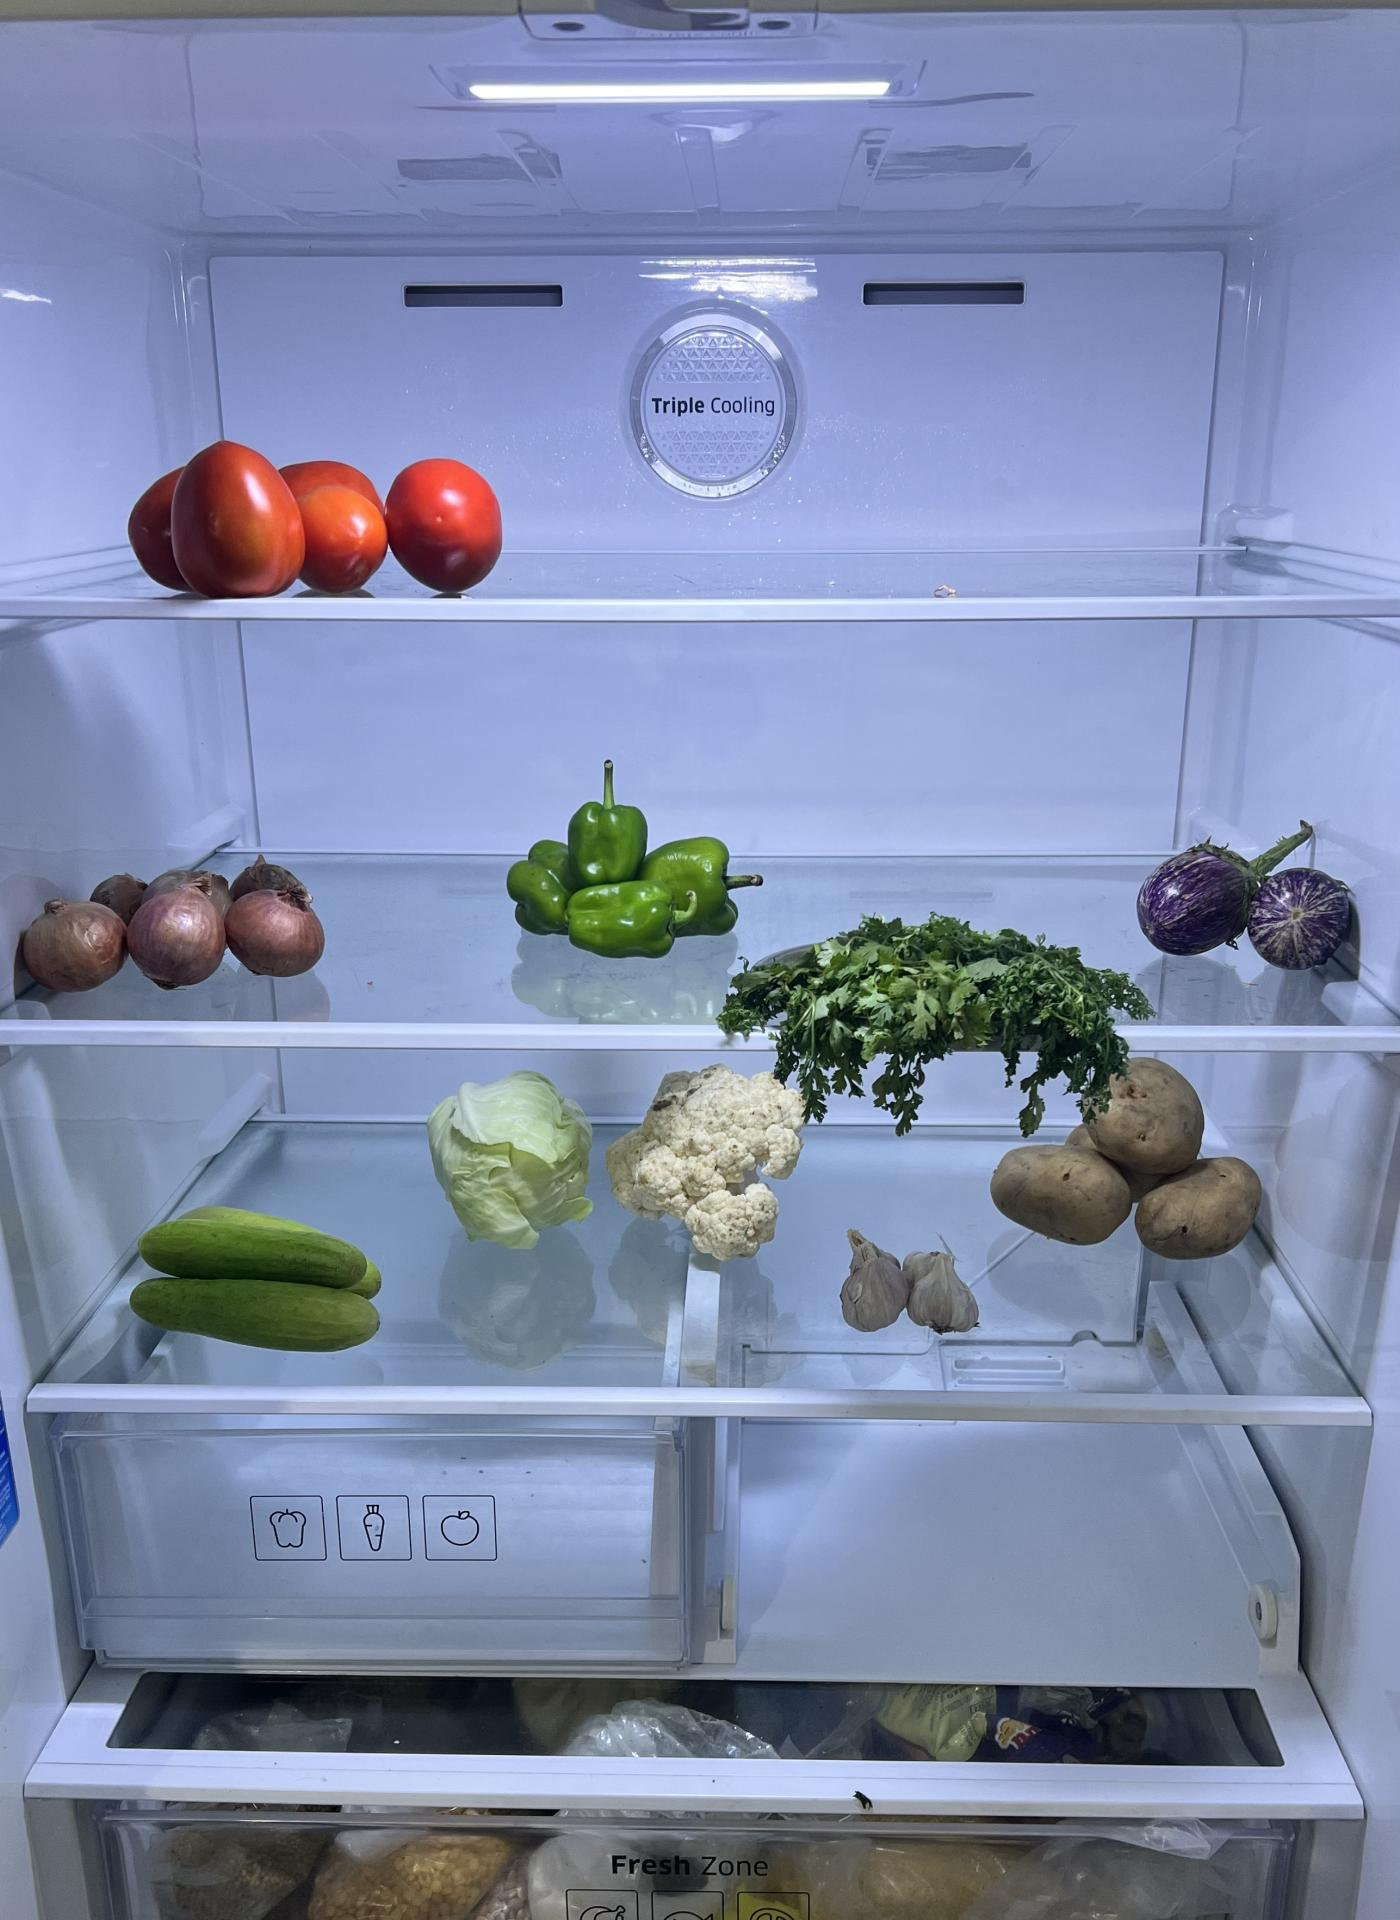brinjal: (1141, 838, 1369, 982)
cabbage: (426, 1066, 592, 1245)
capsicum: (510, 777, 747, 954)
cauliflower: (611, 1055, 808, 1252)
coriander: (725, 914, 1138, 1094)
cucumber: (127, 1212, 395, 1354)
garlic: (839, 1227, 986, 1340)
onion: (13, 848, 328, 994)
potato: (999, 1064, 1270, 1263)
tomato: (128, 432, 520, 595)
